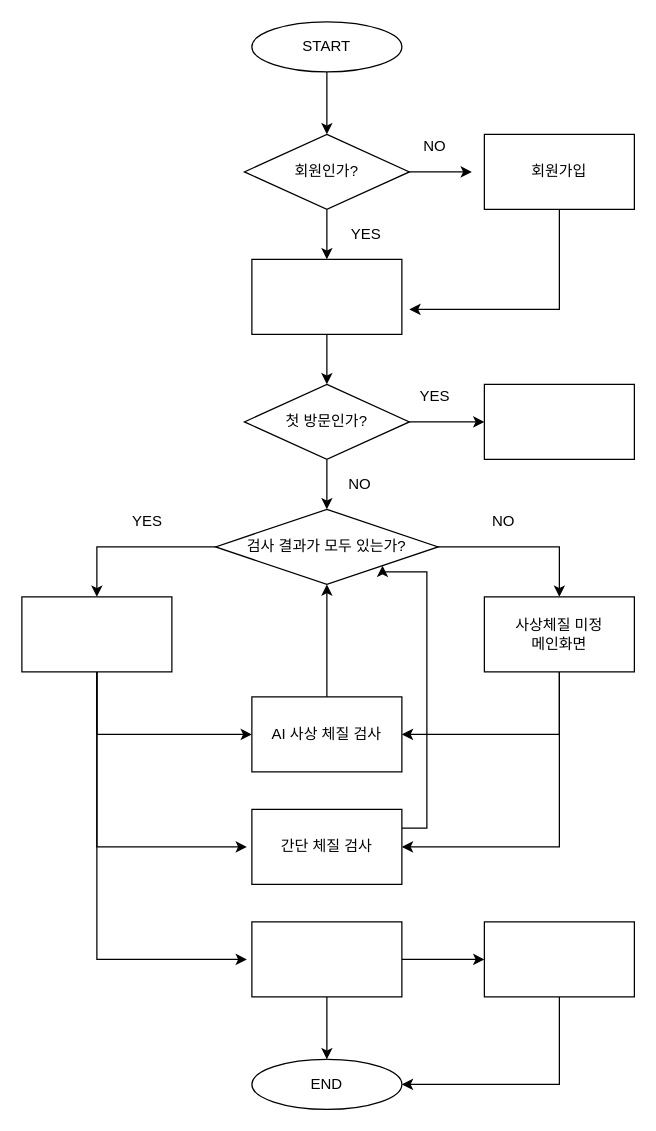
Some shapes in this 656 by 1131 pixel diagram are drawn without their labels. The shapes that lost their labels are listed below. From the top down, each one's centre as x and y in pixels, then its label:
[326,296]: 로그인
[558,421]: 인트로 페이지
[96,634]: 사상체질 결정 메인화면
[326,959]: 내 체질 정보 보기
[558,959]: 사상체질 통계치 보기
